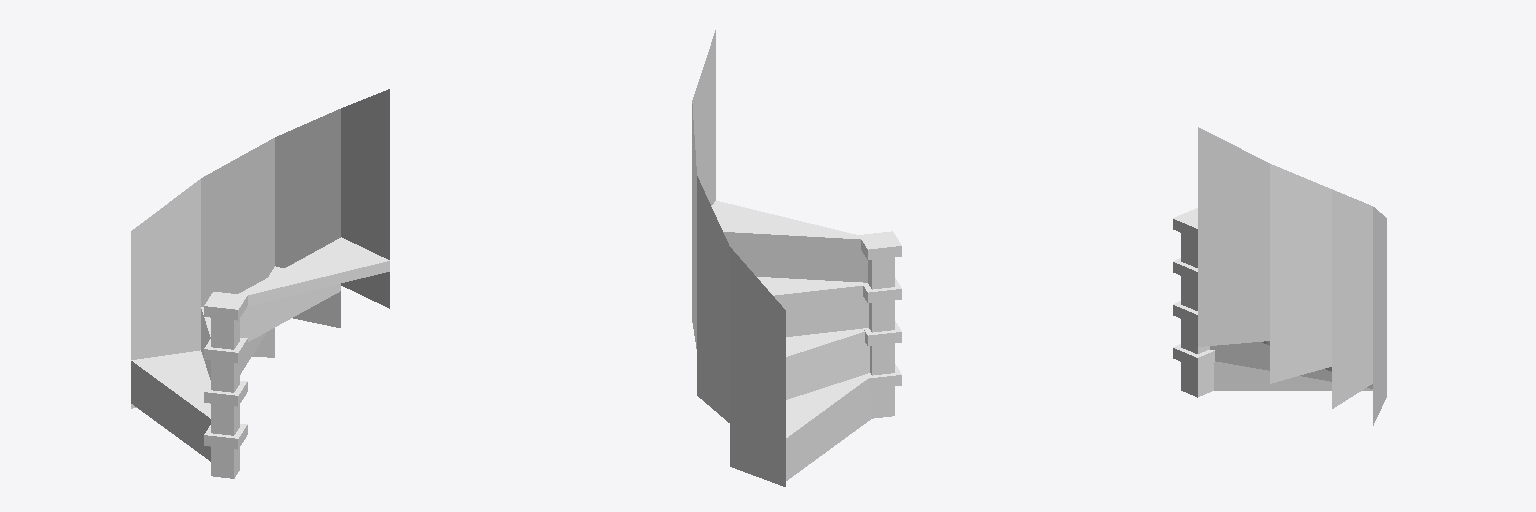
The model's file is spiral_staircase.obj.
3 renders of one model, left to right at view 1: azimuth 30°, elevation 25°; view 2: azimuth 150°, elevation 25°; view 3: azimuth 270°, elevation 25°, orthographic.
Visible parts, largest first — view 1: railing1, railing2, railing3, railing4, step4, step1, beam, scallopfront1, scallopfront4, step3, joint4, scallopside4 (+4 smaller); view 2: railing1, railing2, scallopfront4, step4, step1, beam, railing4, scallopfront1, scallopfront2, scallopfront3, step2, scallopside1 (+6 smaller); view 3: railing4, railing3, railing2, scallopside4, beam, scallopside3, scallopfront1, railing1, scallopside2, step1, step4, step3 (+4 smaller).
Boxes of the visible parts, <box> form: railing1: <box>131,179,200,359</box>; railing2: <box>201,138,274,306</box>; railing3: <box>275,109,340,267</box>; railing4: <box>341,89,389,259</box>; step4: <box>239,237,389,305</box>; step1: <box>131,350,210,427</box>; beam: <box>211,318,239,478</box>; scallopfront1: <box>131,371,210,461</box>; scallopfront4: <box>240,286,329,335</box>; step3: <box>240,266,340,341</box>; joint4: <box>204,292,247,320</box>; scallopside4: <box>341,272,389,308</box>; railing1: <box>730,247,785,438</box>; railing2: <box>697,176,729,374</box>; scallopfront4: <box>729,243,867,282</box>; step4: <box>711,201,860,249</box>; step1: <box>730,375,867,449</box>; beam: <box>868,257,894,418</box>; railing4: <box>692,30,715,205</box>; scallopfront1: <box>786,389,871,480</box>; scallopfront2: <box>786,342,869,399</box>; scallopfront3: <box>782,296,868,336</box>; step2: <box>697,329,864,385</box>; scallopside1: <box>730,429,785,486</box>; railing4: <box>1198,127,1269,298</box>; railing3: <box>1270,164,1331,335</box>; railing2: <box>1332,189,1372,360</box>; scallopside4: <box>1198,303,1269,346</box>; beam: <box>1181,233,1213,397</box>; scallopside3: <box>1270,329,1331,383</box>; scallopfront1: <box>1214,361,1372,390</box>; railing1: <box>1373,207,1386,376</box>; scallopside2: <box>1332,346,1372,408</box>; step1: <box>1215,350,1386,388</box>; step4: <box>1198,293,1269,308</box>; step3: <box>1266,318,1331,345</box>.
Bounding box in the file's own units: 1.13 × 2.03 × 1.13.